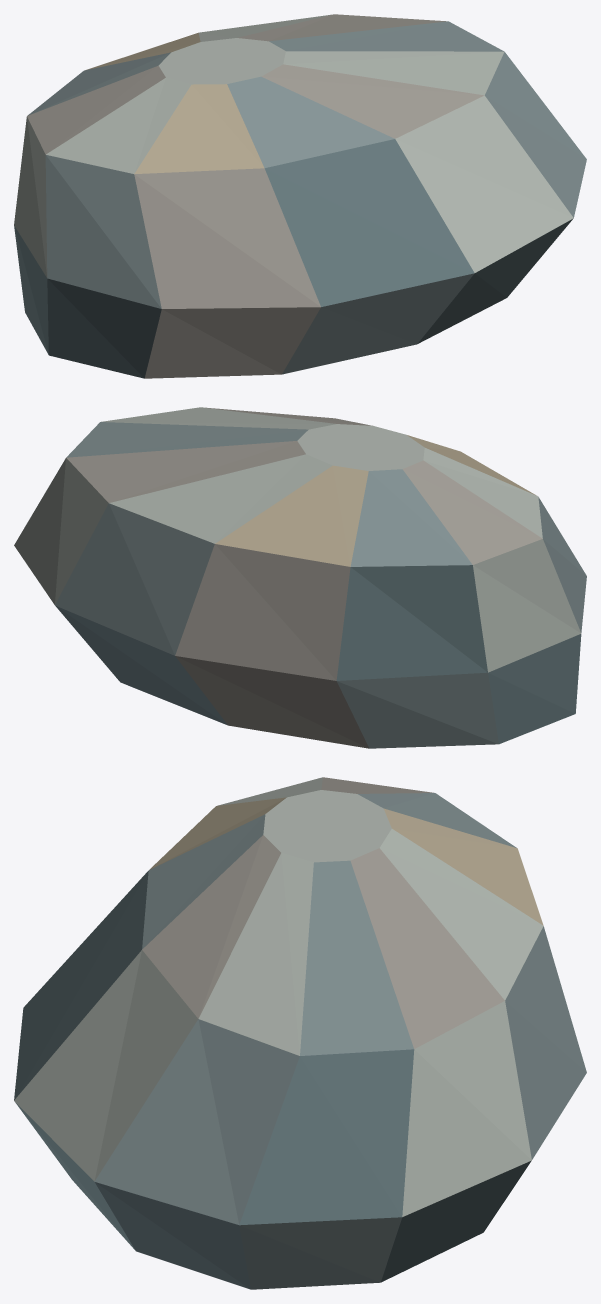
File: Rock_02.obj
3 renders of one model, top to bottom at view 1: azimuth 30°, elevation 25°; view 2: azimuth 150°, elevation 25°; view 3: azimuth 270°, elevation 25°, orthographic. The views are drawn at different scales.
Visible parts, largest first — view 1: Rock_02; view 2: Rock_02; view 3: Rock_02.
Part boxes in pixels (x1,y1,x2,y2): Rock_02: (14,14,586,378); Rock_02: (14,407,586,748); Rock_02: (14,777,586,1289).
Bounding box in the file's own units: 2.85 × 1.2 × 2.11.
1 material, 1 textured.
